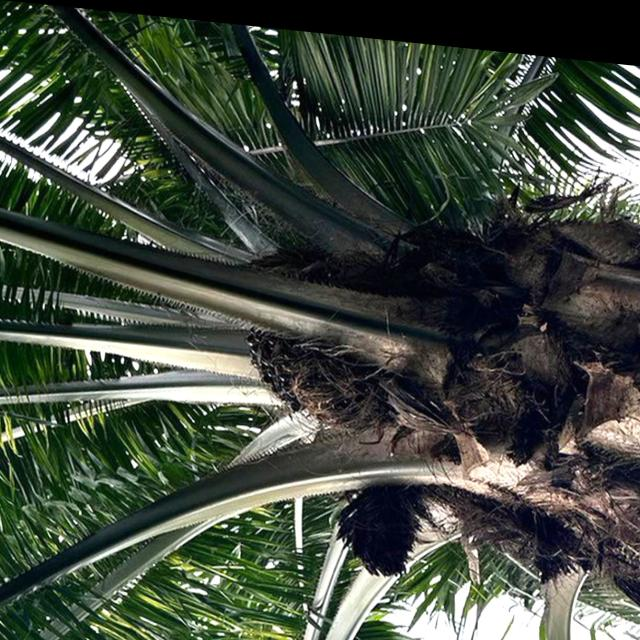almost: (237, 300, 390, 426)
